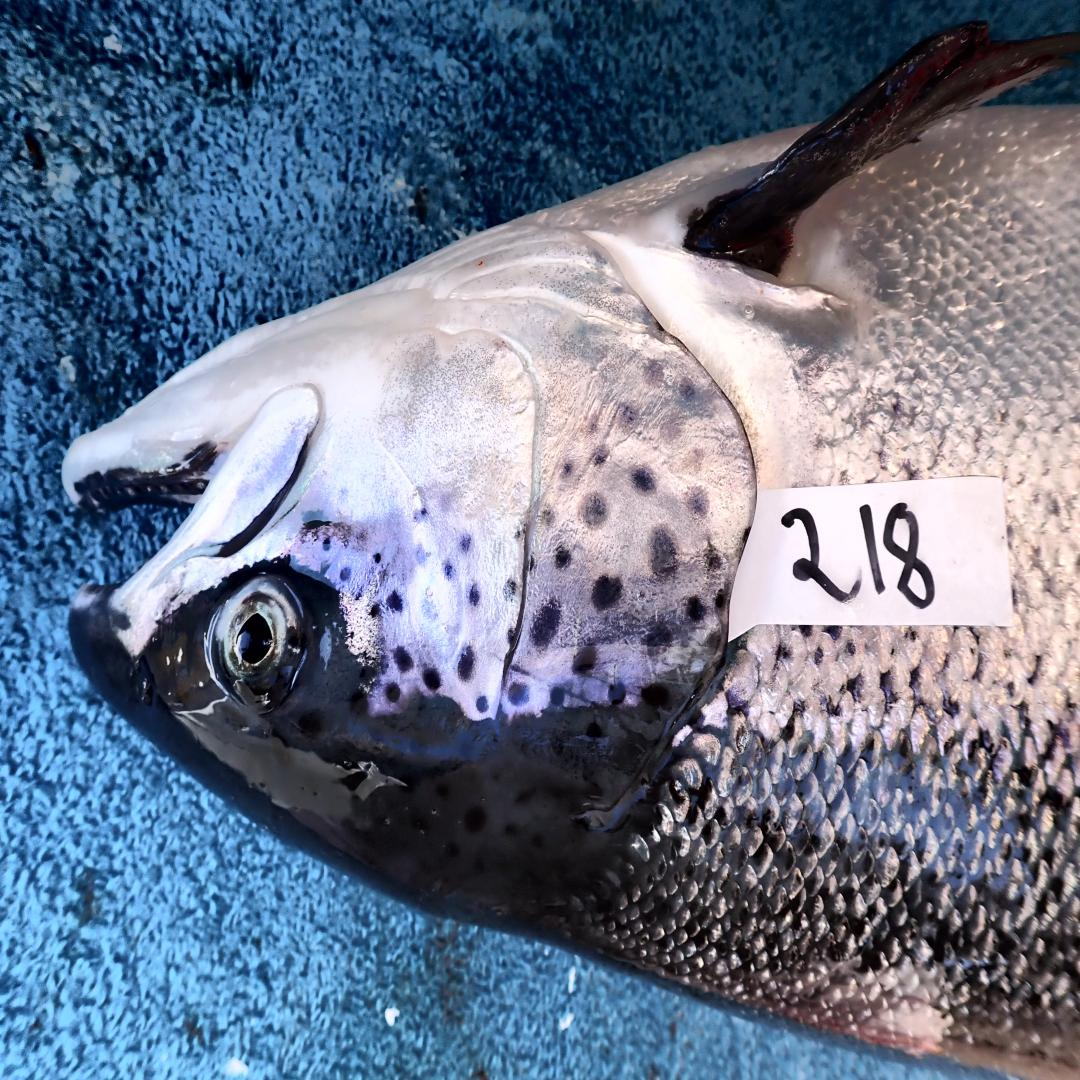spot: (532, 599, 561, 647), (650, 529, 677, 577), (591, 574, 622, 610), (647, 620, 671, 659), (572, 644, 597, 675), (640, 683, 670, 708), (682, 596, 706, 627), (616, 407, 643, 432), (584, 495, 605, 526), (458, 644, 475, 681), (687, 489, 711, 515), (641, 358, 661, 387), (633, 467, 654, 492), (392, 647, 413, 672), (508, 684, 532, 705), (711, 584, 725, 619), (421, 596, 438, 624), (704, 546, 722, 572), (608, 681, 626, 706), (680, 376, 697, 402), (422, 669, 441, 692), (557, 459, 575, 481), (593, 444, 611, 465), (555, 546, 572, 568), (386, 591, 403, 613), (414, 543, 427, 568), (410, 508, 431, 523), (386, 683, 401, 703), (542, 505, 555, 528), (504, 579, 517, 602), (470, 584, 481, 610), (551, 686, 565, 706), (444, 559, 455, 581), (513, 527, 526, 543), (477, 695, 489, 712), (462, 536, 472, 553), (370, 606, 380, 621), (340, 568, 350, 582), (324, 535, 333, 550), (373, 552, 383, 564)
